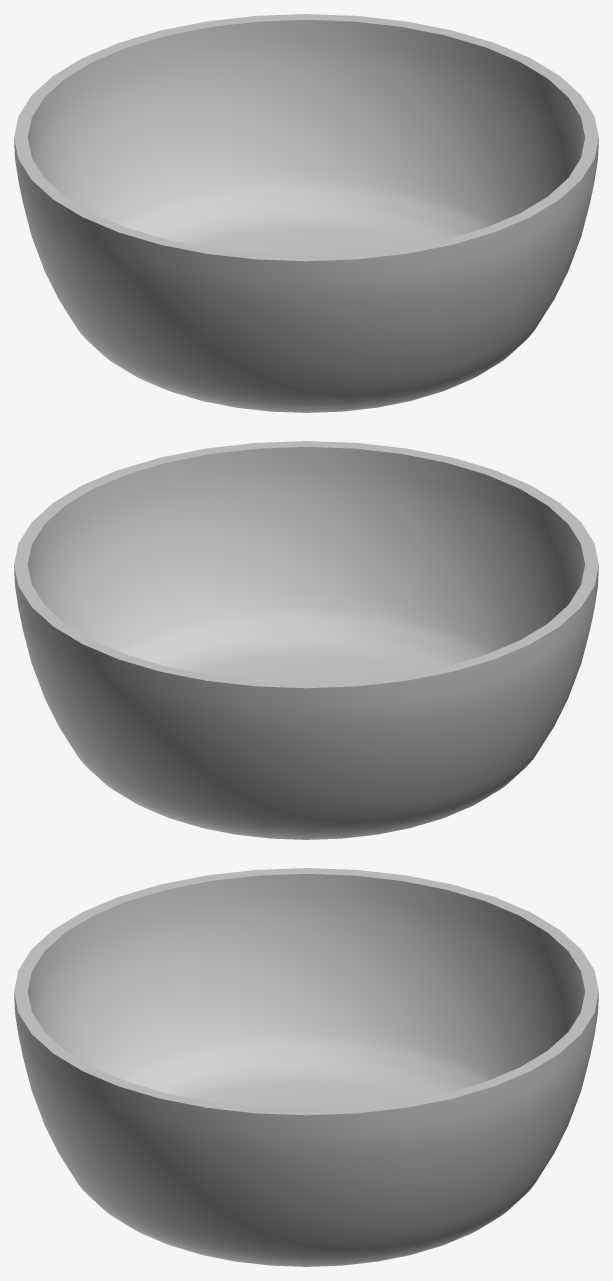
File: rice bowl.fbx
3 views of the same model, one above another, from view 1: azimuth 30°, elevation 25°; view 2: azimuth 150°, elevation 25°; view 3: azimuth 270°, elevation 25° (orthographic).
Parts seen in each view (by area): view 1: 그릇_1; view 2: 그릇_1; view 3: 그릇_1.
Boxes of the visible parts, x1,y1,x2,y2 form: 그릇_1: [14, 14, 598, 412]; 그릇_1: [14, 441, 598, 839]; 그릇_1: [14, 868, 598, 1266].
Size of the model in its own units: 211 by 78.2 by 211.
1 material, 1 textured.
